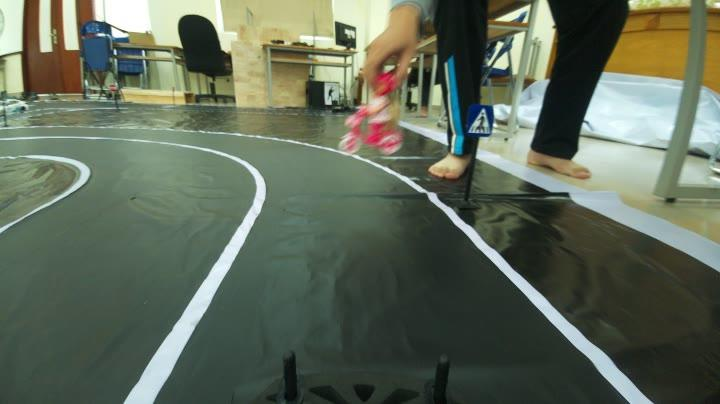crosswalk: (466, 102, 498, 138)
